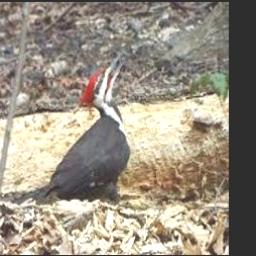Woodpecker: (11, 53, 131, 205)
